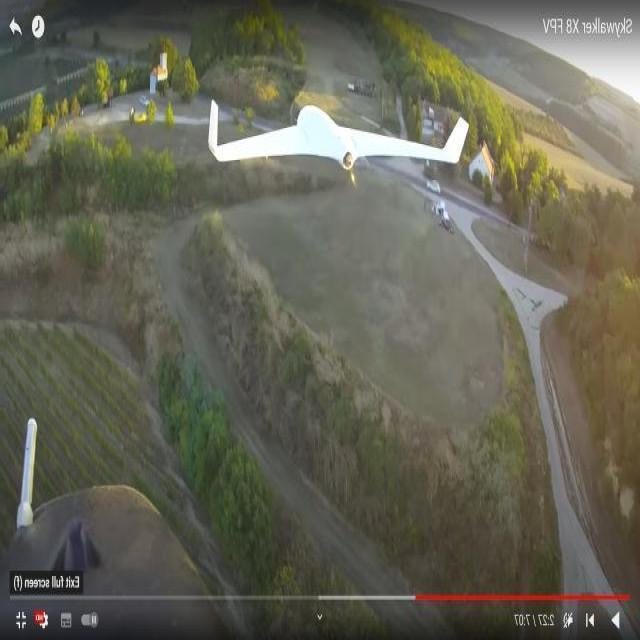iha: (229, 40, 471, 86)
